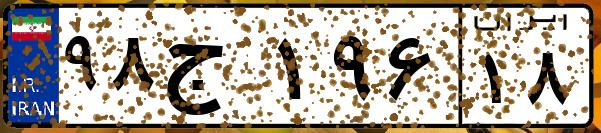1: (270, 28, 330, 110), (475, 38, 525, 113)
6: (385, 28, 445, 110)
8: (525, 38, 570, 115), (110, 28, 158, 98)
9: (330, 28, 385, 110), (57, 26, 110, 100)
ج: (158, 20, 270, 120)
